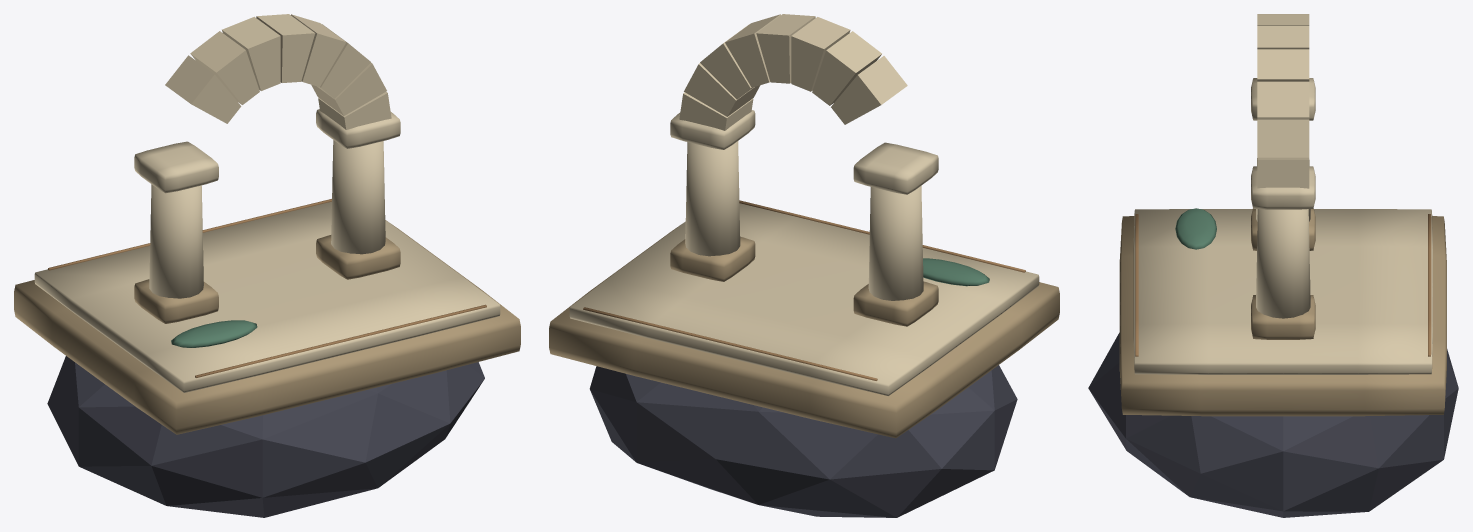
Rendered from Ruin1.glb.
3 renders of one model, left to right at view 1: azimuth 30°, elevation 25°; view 2: azimuth 150°, elevation 25°; view 3: azimuth 270°, elevation 25°, orthographic.
Visible parts, largest first — view 1: Ruin1__Body; view 2: Ruin1__Body; view 3: Ruin1__Body.
Part boxes in pixels (box(x1,y1,x2,y2)): Ruin1__Body: box(14, 14, 520, 517); Ruin1__Body: box(549, 14, 1059, 517); Ruin1__Body: box(1088, 14, 1458, 517).
Size of the model in its own units: 3.52 by 4.04 by 2.98.
1 material, 1 textured.
